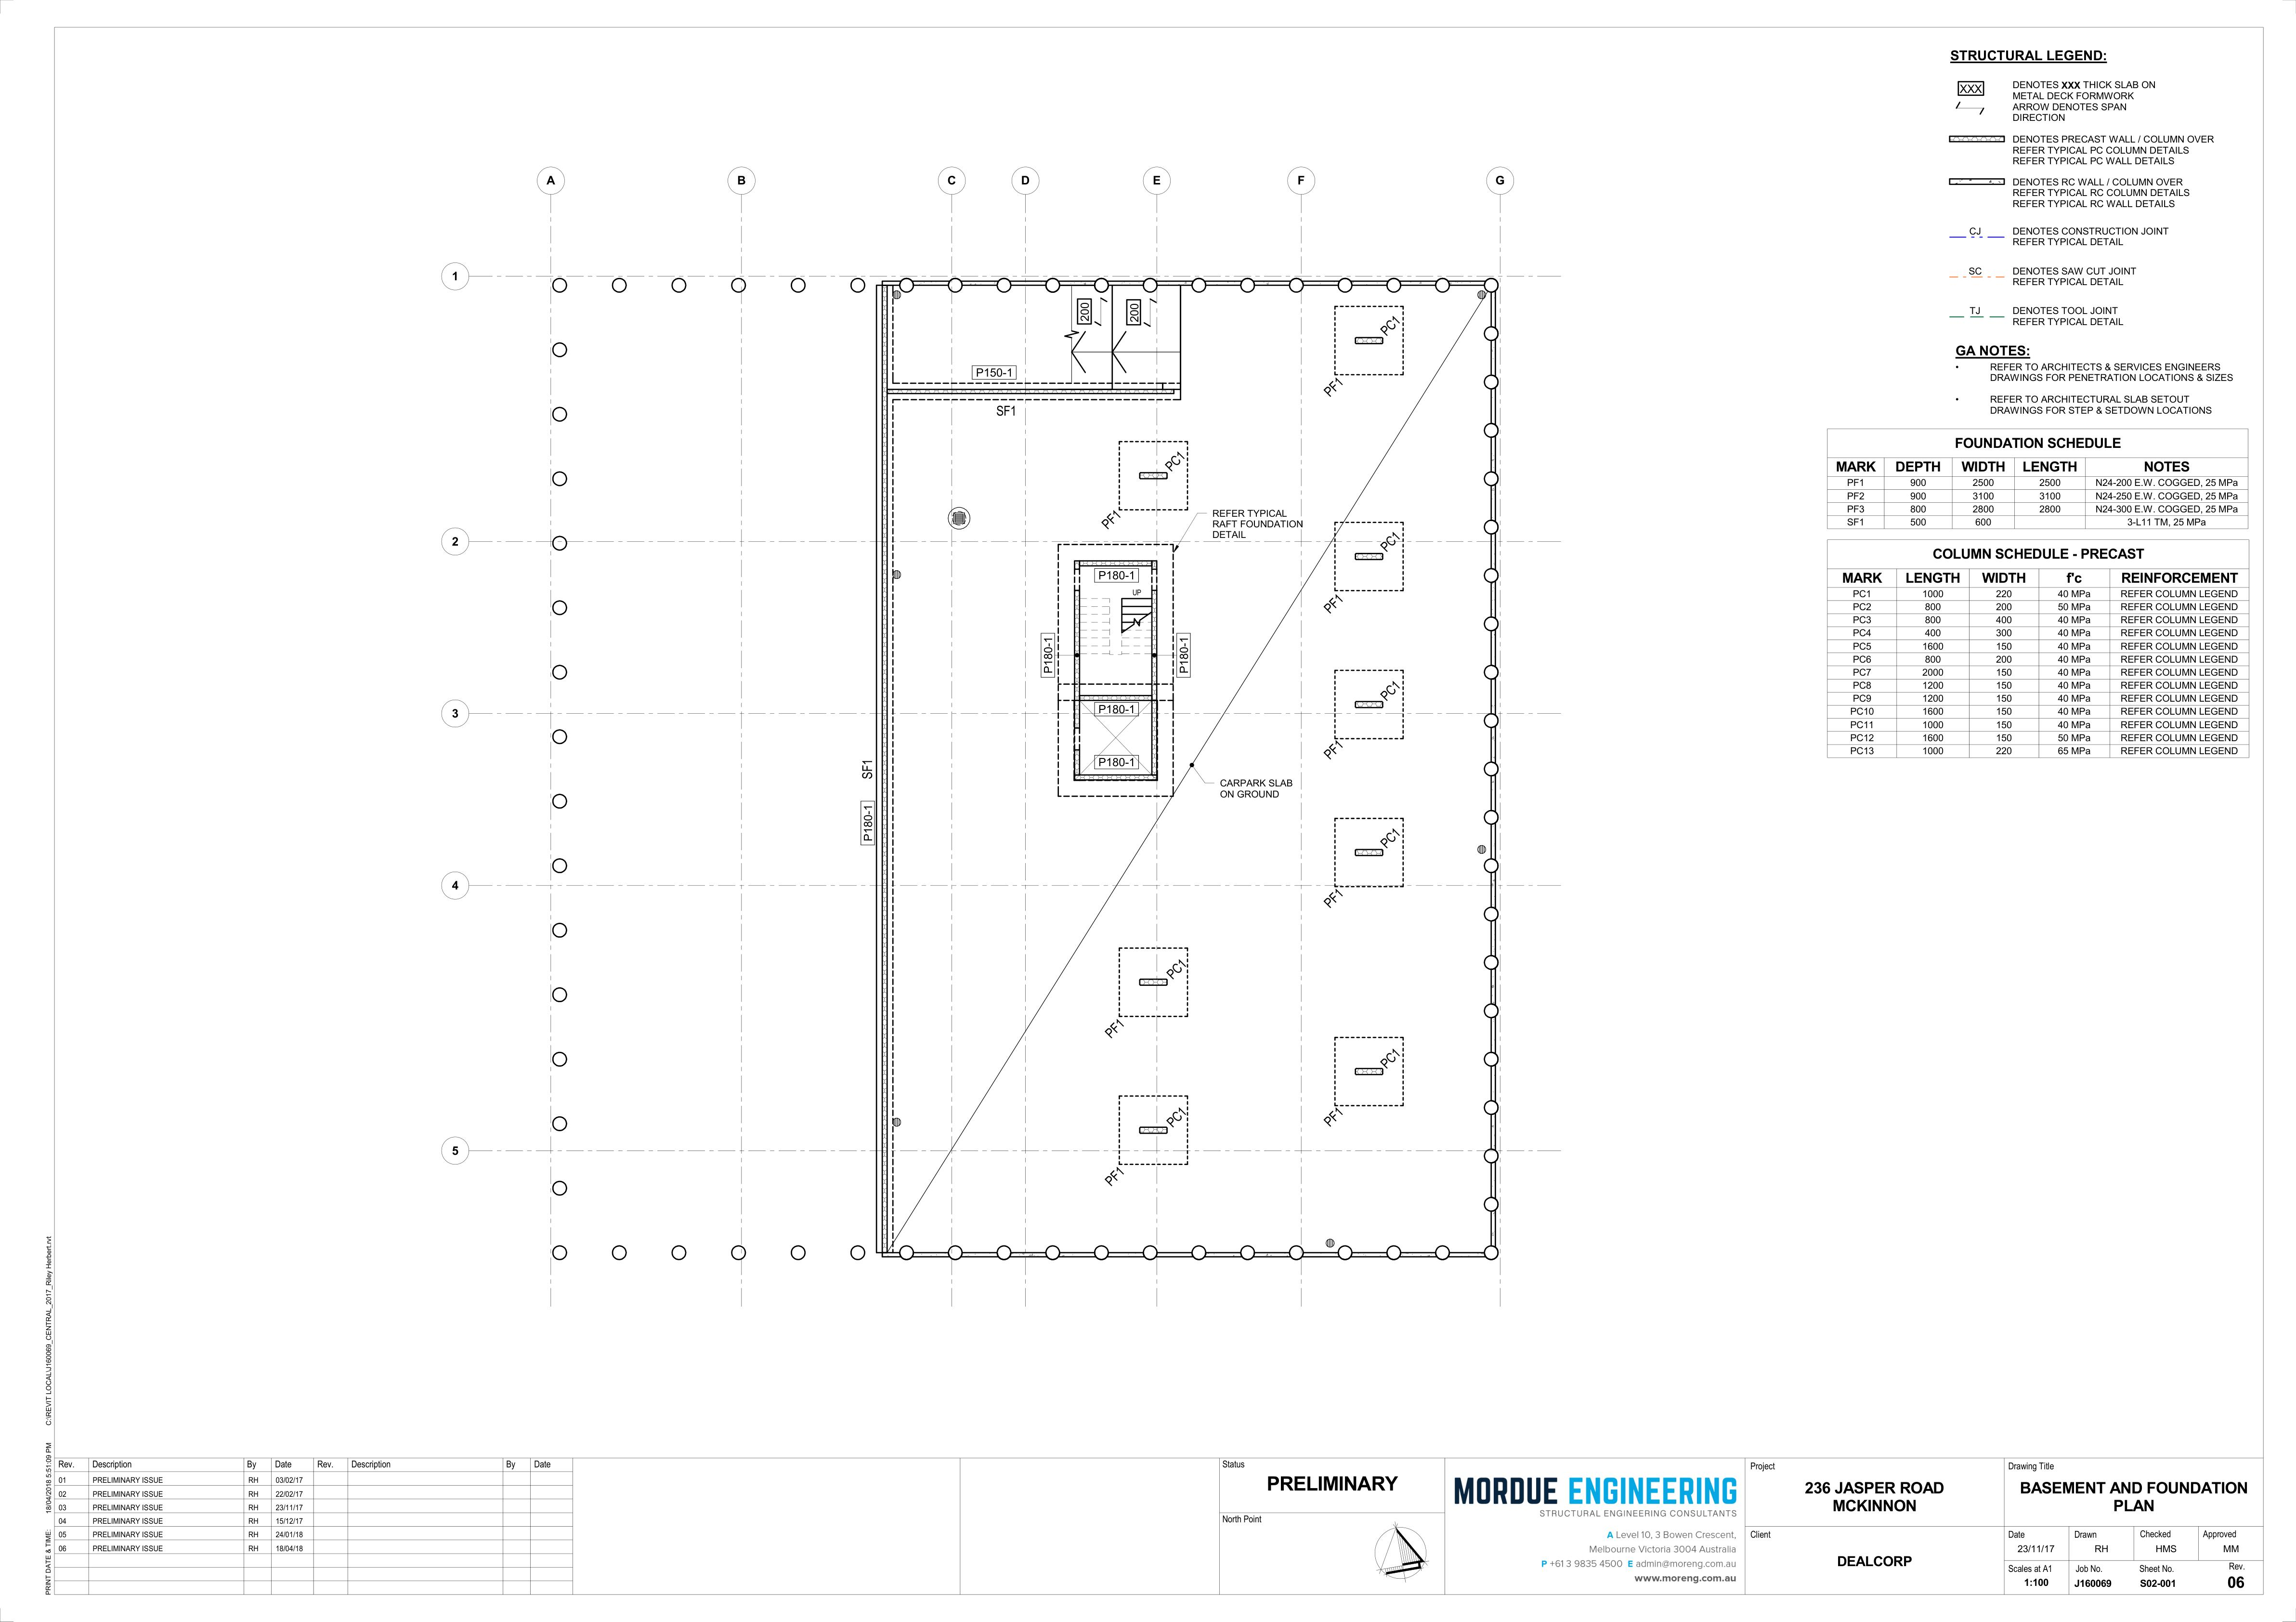PC1: (1374, 525, 1408, 555), (1374, 312, 1408, 337), (1166, 958, 1199, 981), (1374, 1050, 1408, 1071), (1162, 446, 1187, 469), (1381, 829, 1406, 850), (1171, 1104, 1188, 1132), (1380, 683, 1403, 704)
PF1: (1308, 370, 1350, 402), (1106, 1008, 1132, 1046), (1095, 499, 1125, 532), (1320, 888, 1352, 913), (1102, 1160, 1130, 1187), (1322, 739, 1352, 764), (1318, 1104, 1350, 1125), (1322, 592, 1345, 614)
SF1: (988, 400, 1025, 421)
